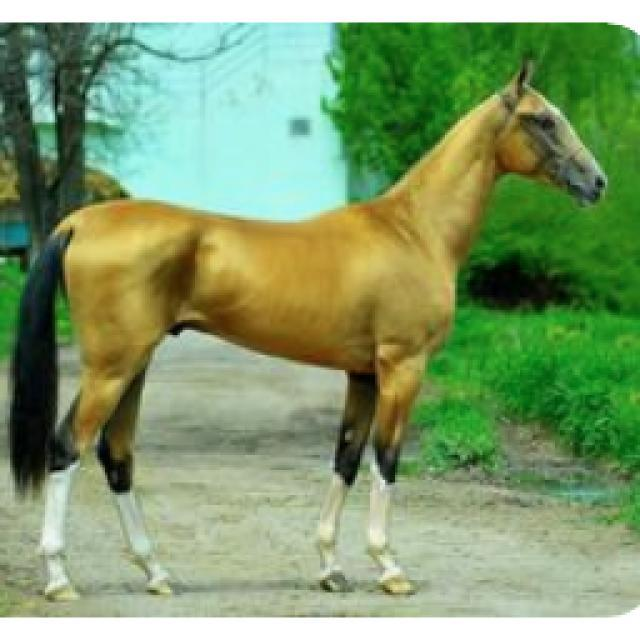Horse: (0, 52, 612, 602)
